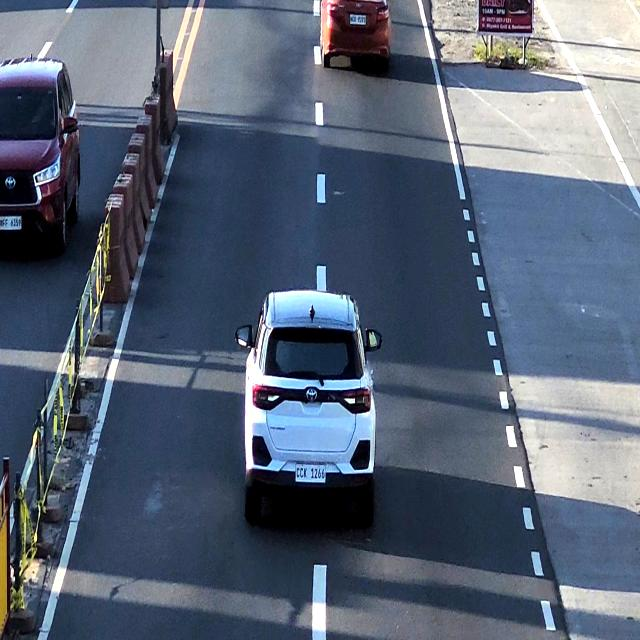Car: (243, 285, 378, 510), (318, 0, 396, 80)
License-Plate: (294, 462, 326, 488), (348, 10, 368, 28)
